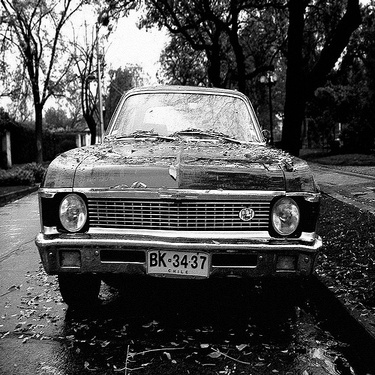car: (1, 83, 337, 289)
